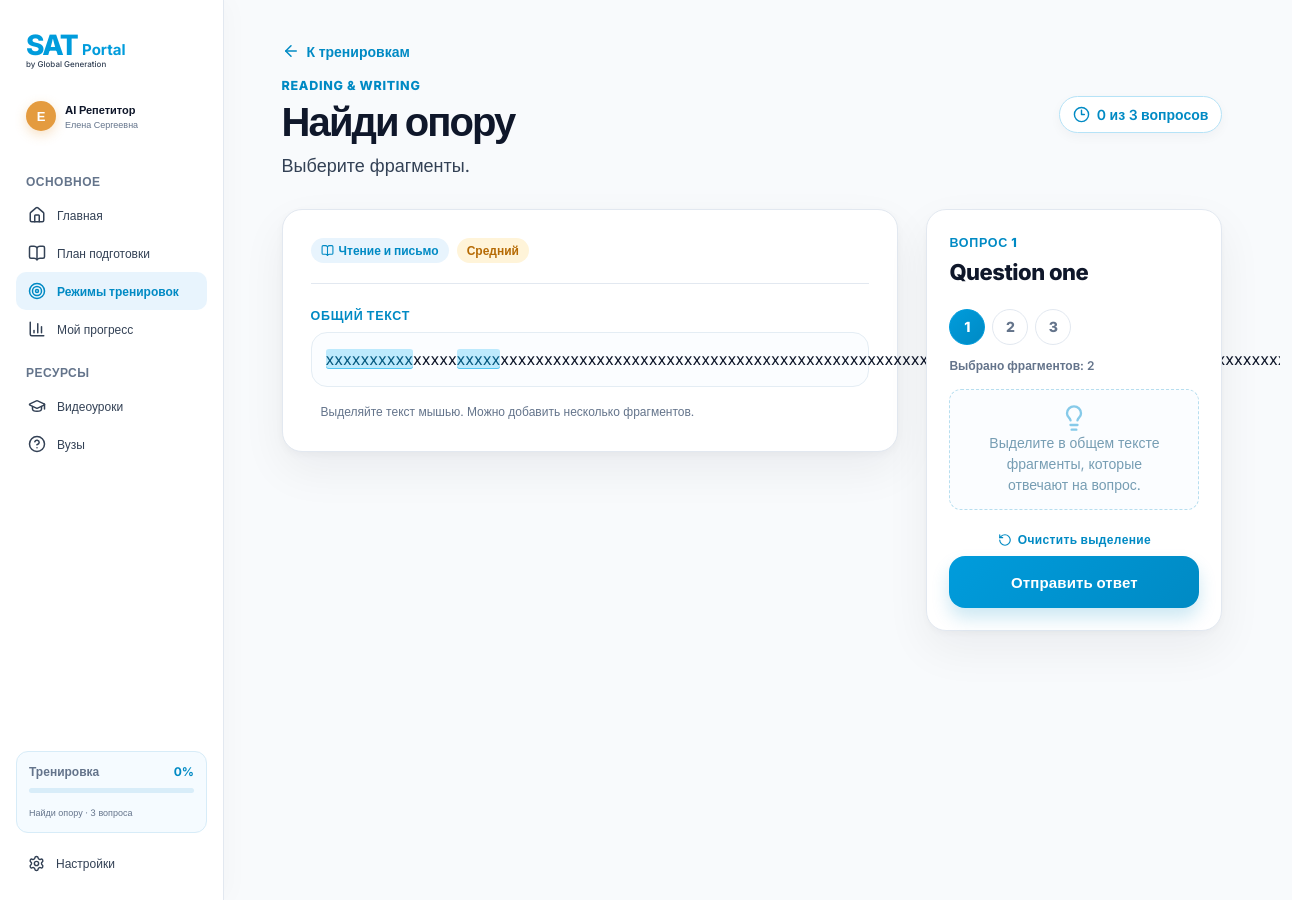
it: App › collects selections and allows clearing
The width and height of the screenshot is (1292, 900).
Expected: the heading "Найди опору" is shown, [282, 97, 514, 146]
Expected: the text "Выбрано фрагментов: 2" is shown, [949, 358, 1094, 373]
Click the button "Очистить выделение" at (1074, 533), box [949, 518, 1199, 548]
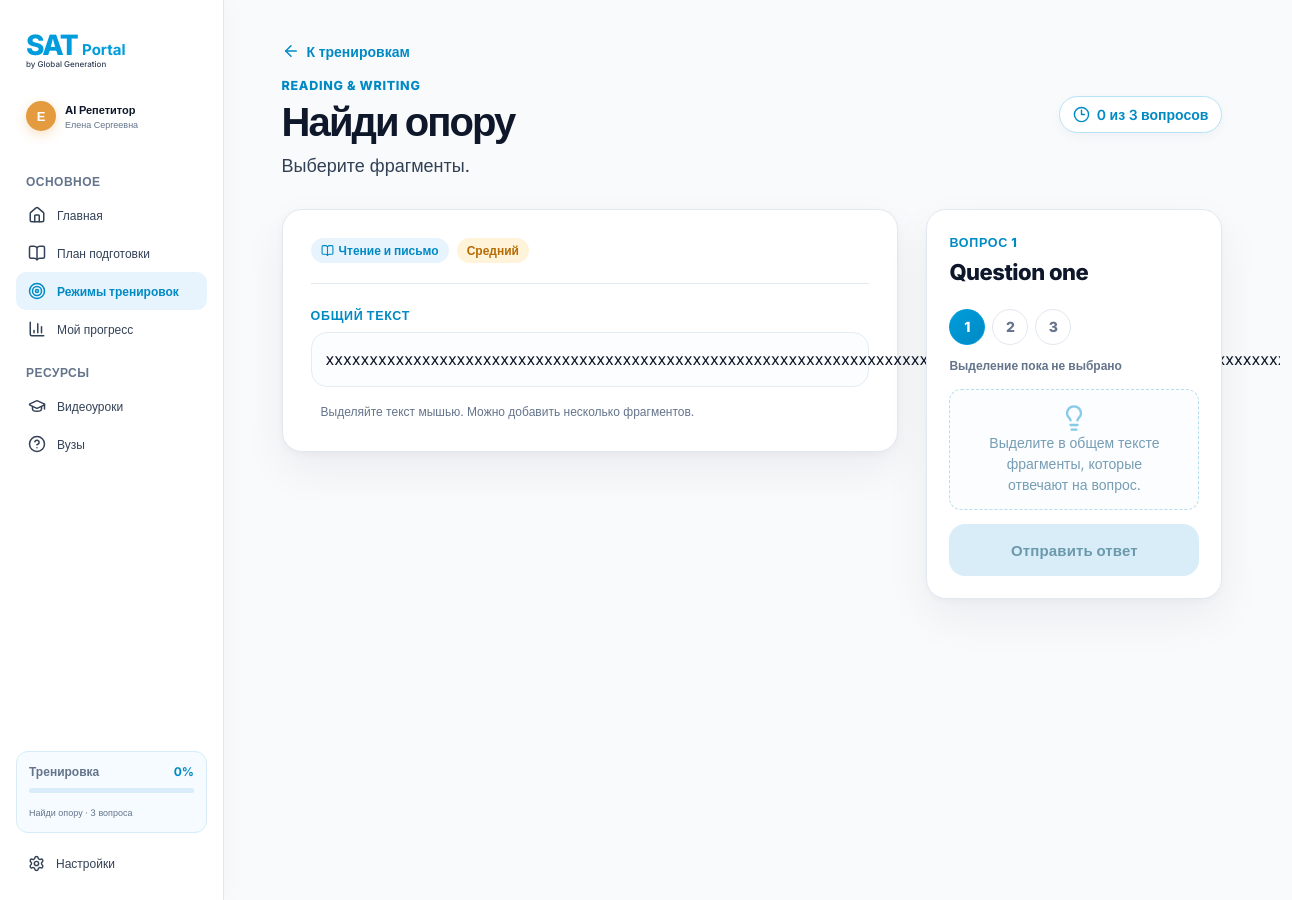
Expected: the text "Выделение пока не выбрано" is shown, [949, 358, 1122, 373]
